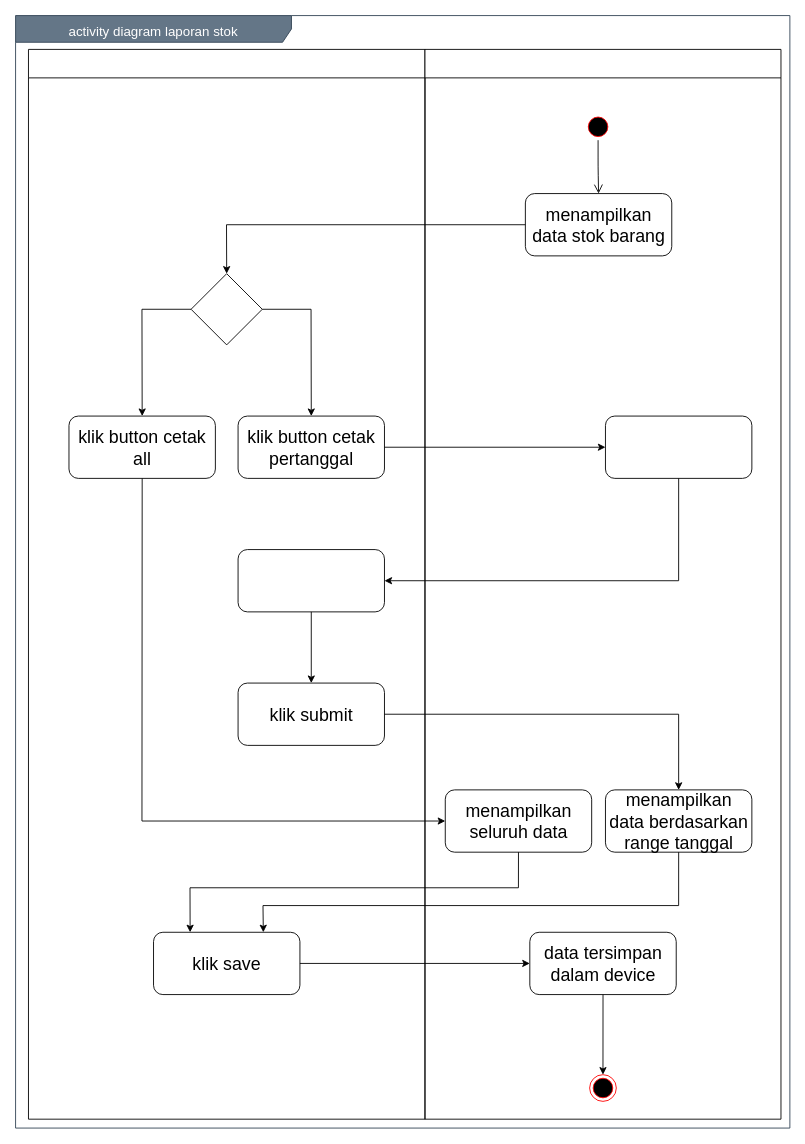
Some shapes in this 805 by 1144 pixel diagram are drawn without their labels. The shapes that lost their labels are listed below. From the top down, each one's box as (x1, y1, x2, y2) in pixels, then its label:
(605, 415, 752, 478): menampilkan form tgl awal dan tgl akhir
(28, 49, 425, 1119): admin
(237, 549, 384, 612): mengisi form
(424, 49, 781, 1119): sistem
